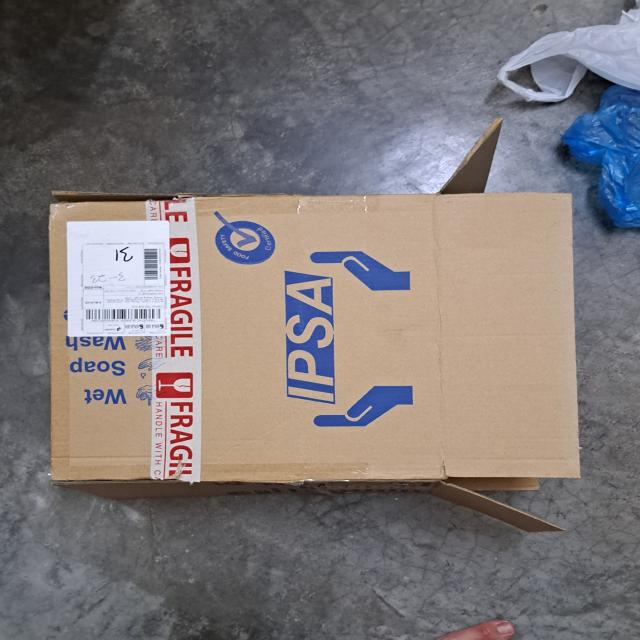cardboard: (47, 117, 580, 530)
plastic bag: (496, 6, 640, 103), (555, 84, 640, 228)
